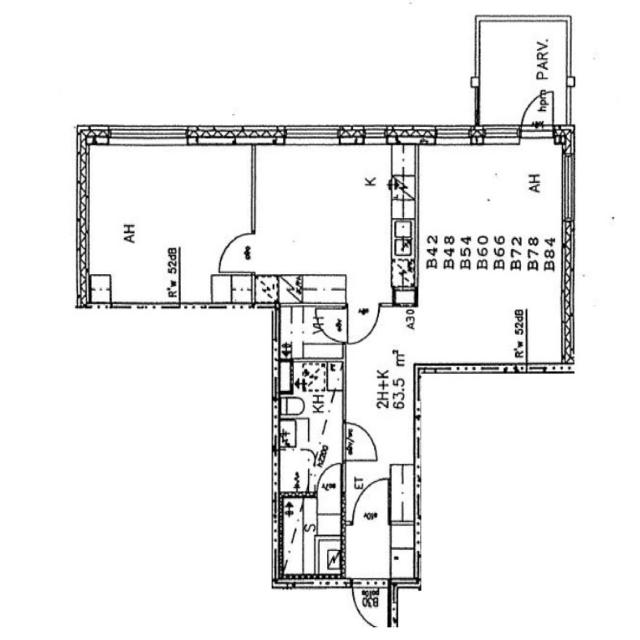door: (216, 228, 256, 274), (351, 474, 391, 520), (351, 579, 387, 626), (342, 420, 380, 464), (518, 91, 555, 135), (314, 306, 348, 344), (348, 304, 380, 344), (315, 460, 345, 495)
window: (108, 124, 188, 150), (558, 148, 578, 225), (283, 124, 341, 149), (479, 120, 524, 147), (432, 122, 474, 148), (360, 123, 389, 146)
zone: (79, 136, 244, 308), (407, 140, 573, 304), (251, 142, 415, 295), (477, 20, 567, 126), (276, 358, 344, 497), (276, 305, 347, 357), (307, 306, 349, 346), (210, 274, 253, 306)
